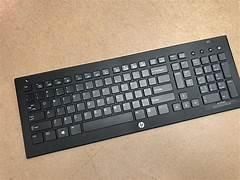keyboard: (13, 34, 239, 159)
